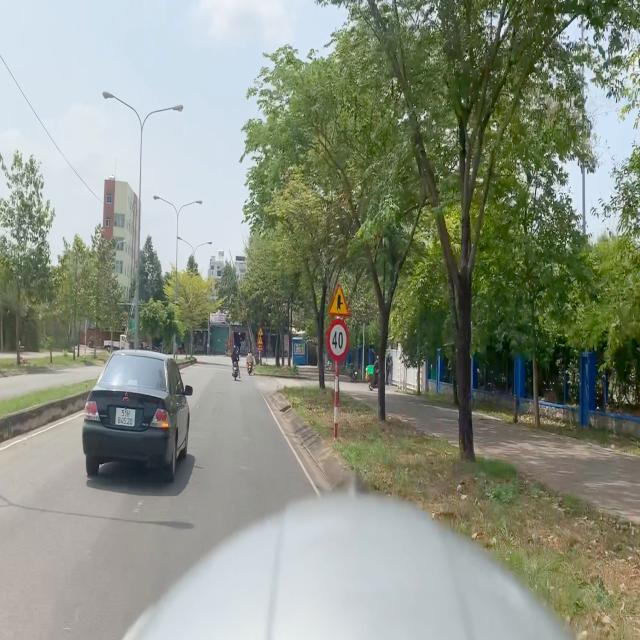Duong giao nhau: (258, 327, 264, 335)
Giao voi duong khong uu tien: (328, 284, 349, 316)
Nguoi di bo cat ngang: (258, 336, 263, 344)
Toc do toi da: (328, 318, 350, 361)
